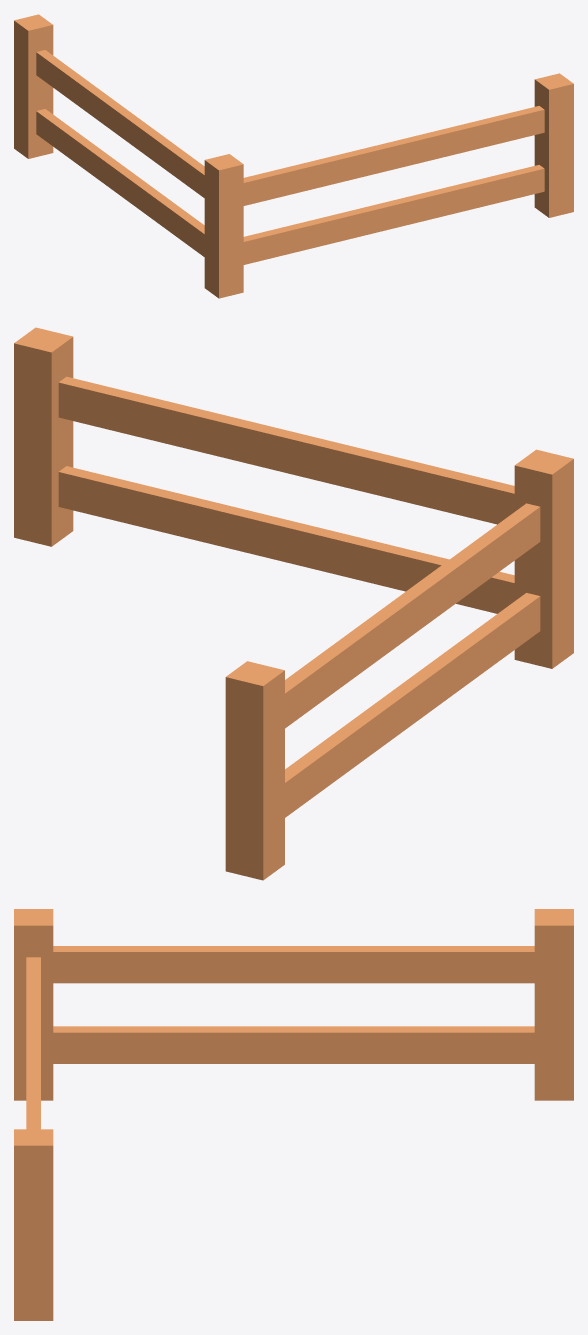
The model's file is fence_corner.obj.
3 views of the same model, one above another, from view 1: azimuth 30°, elevation 25°; view 2: azimuth 150°, elevation 25°; view 3: azimuth 270°, elevation 25° (orthographic). The views are drawn at different scales.
Parts seen in each view (by area): view 1: fence_corner; view 2: fence_corner; view 3: fence_corner.
Part boxes in pixels (box(x1,y1,x2,y2)): fence_corner: box(14, 14, 573, 298); fence_corner: box(14, 327, 573, 880); fence_corner: box(14, 909, 573, 1320).
Size of the model in its own units: 10 by 3.45 by 10.
